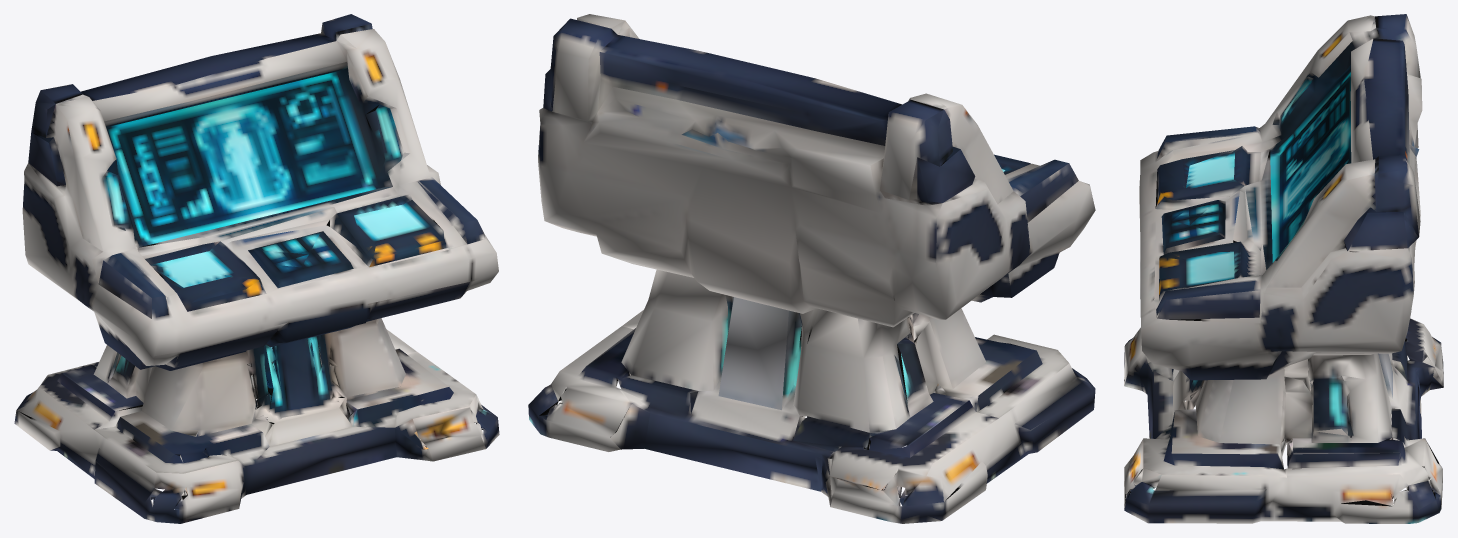
The model's file is cryo-diagnostic-console_LOD0.glb.
3 views of the same model, side by side, from view 1: azimuth 30°, elevation 25°; view 2: azimuth 150°, elevation 25°; view 3: azimuth 270°, elevation 25° (orthographic). The views are drawn at different scales.
Parts seen in each view (by area): view 1: cryo-diagnostic-console_LOD0; view 2: cryo-diagnostic-console_LOD0; view 3: cryo-diagnostic-console_LOD0.
Boxes of the visible parts, bbox=[...] form: cryo-diagnostic-console_LOD0: bbox=[14, 14, 499, 523]; cryo-diagnostic-console_LOD0: bbox=[528, 14, 1095, 523]; cryo-diagnostic-console_LOD0: bbox=[1124, 14, 1443, 523].
Bounding box in the file's own units: 1.28 × 1.15 × 0.9682.
1 material, 1 textured.
